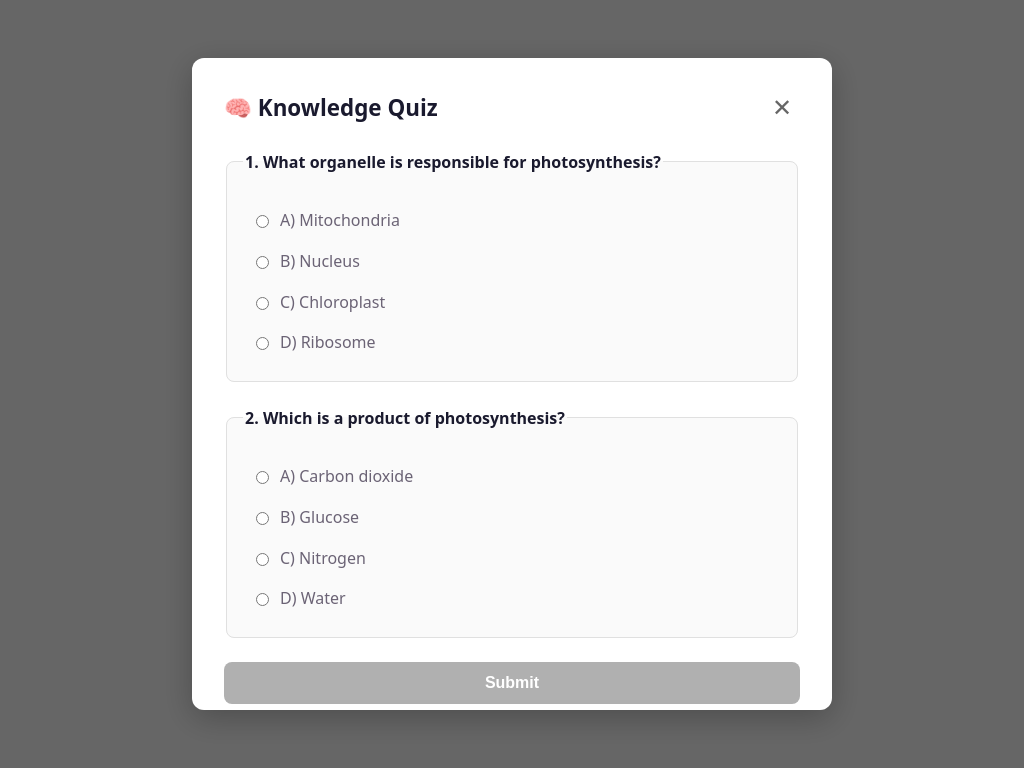
Test: QuizPanel › shows perfect score when all answers are correct
This screenshot has width=1024, height=768.
Check: the text "1. What organelle is responsible for photosynthesis?" is shown, box left=243, top=150, right=663, bottom=174
Note: Select correct answers: Q0 → index 2 (C) Chloroplast), Q1 → index 1 (B) Glucose)
Click the radio button labelled "C) Chloroplast": (262,303) left=256, top=296, right=269, bottom=310
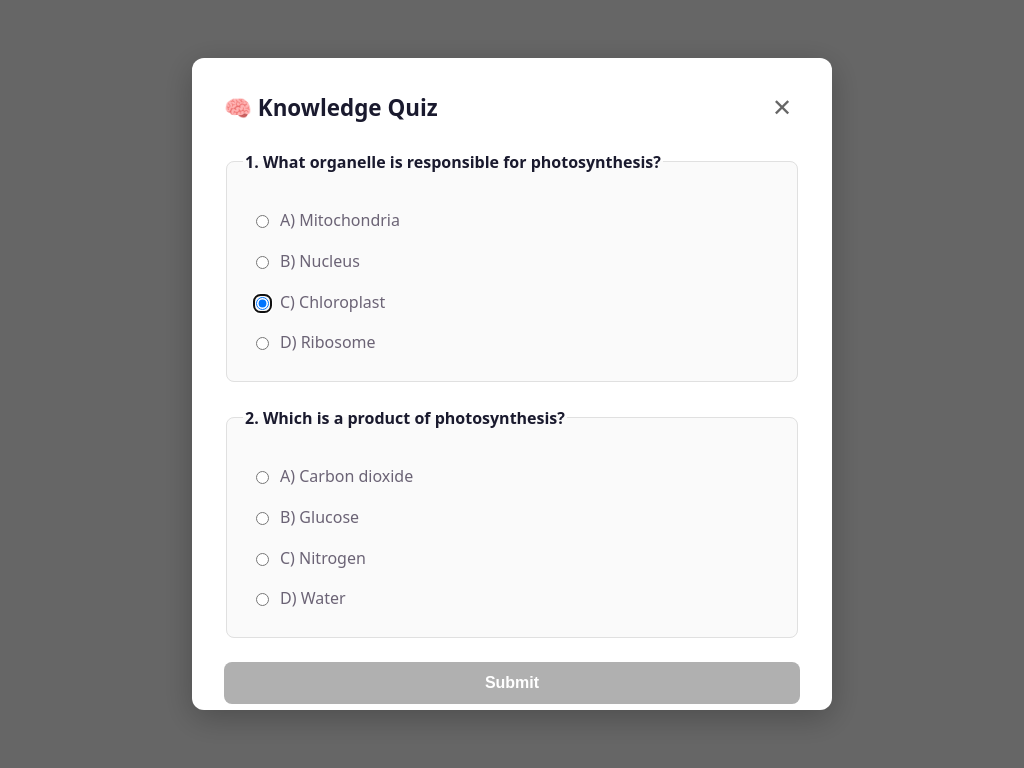
Click the radio button labelled "B) Glucose": (262,518) left=256, top=512, right=269, bottom=525
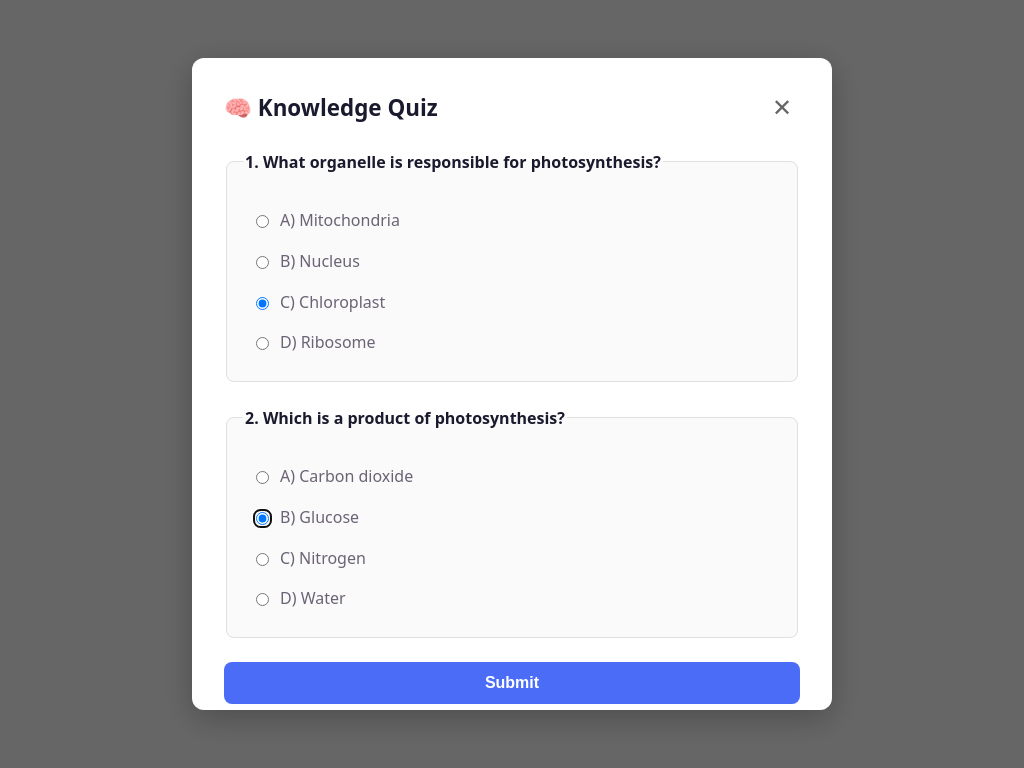
Click the button with aria-label "submit quiz answers": (512,683) left=224, top=662, right=800, bottom=704
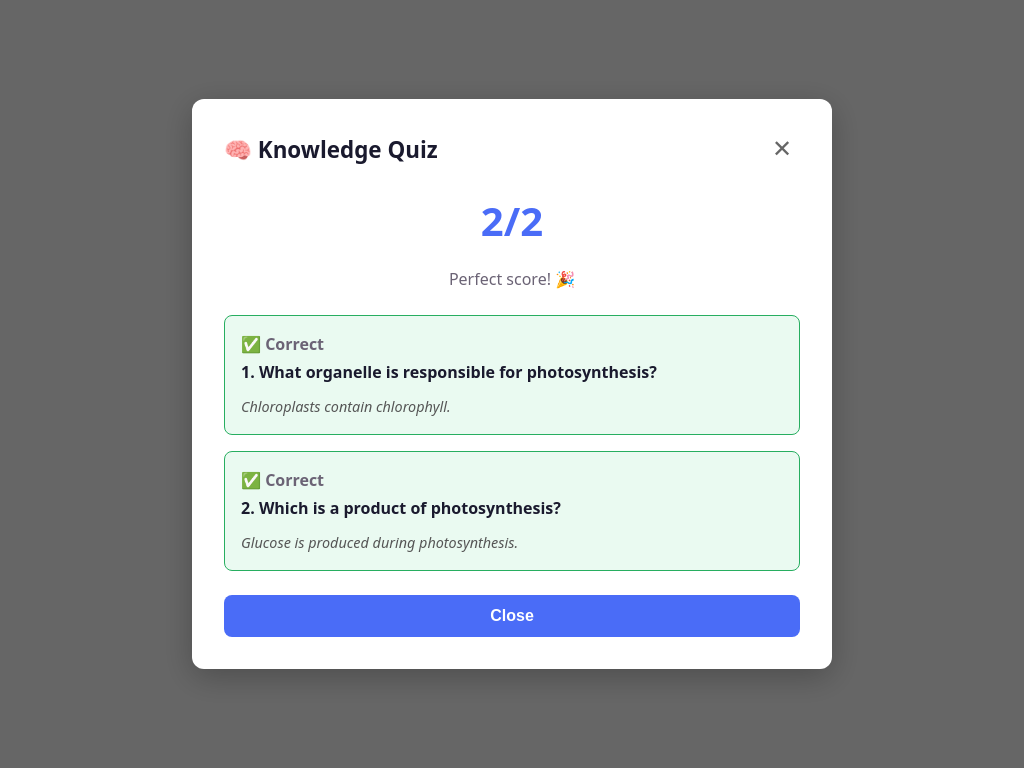
Check: the text "2/2" is shown, box left=481, top=193, right=543, bottom=248
Check: the text "Perfect score! 🎉" is shown, box left=449, top=268, right=575, bottom=290
